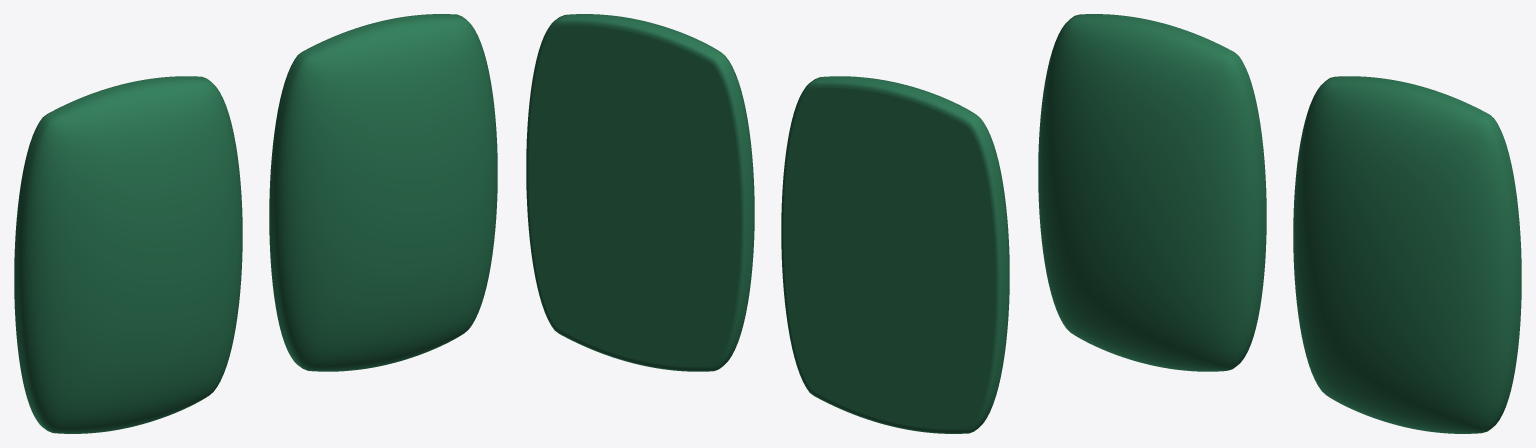
File: matched-pair-v1.glb
The picture shows the model from 3 angles, left to right: view 1: azimuth 30°, elevation 25°; view 2: azimuth 150°, elevation 25°; view 3: azimuth 330°, elevation 25°; orthographic projection.
Parts seen in each view (by area): view 1: Bowed-Rectangle Cabochon 22x15x4mm, Bowed-Rectangle Cabochon 22x15x4mm.001; view 2: Bowed-Rectangle Cabochon 22x15x4mm.001, Bowed-Rectangle Cabochon 22x15x4mm; view 3: Bowed-Rectangle Cabochon 22x15x4mm.001, Bowed-Rectangle Cabochon 22x15x4mm.
Part boxes in pixels (x1,y1,x2,y2): Bowed-Rectangle Cabochon 22x15x4mm: (14,76,242,433); Bowed-Rectangle Cabochon 22x15x4mm.001: (269,14,497,371); Bowed-Rectangle Cabochon 22x15x4mm.001: (526,14,754,371); Bowed-Rectangle Cabochon 22x15x4mm: (781,76,1009,433); Bowed-Rectangle Cabochon 22x15x4mm.001: (1293,76,1521,433); Bowed-Rectangle Cabochon 22x15x4mm: (1038,14,1266,371).
Bounding box in the file's own units: 0.0324 × 0.022 × 0.00398.
